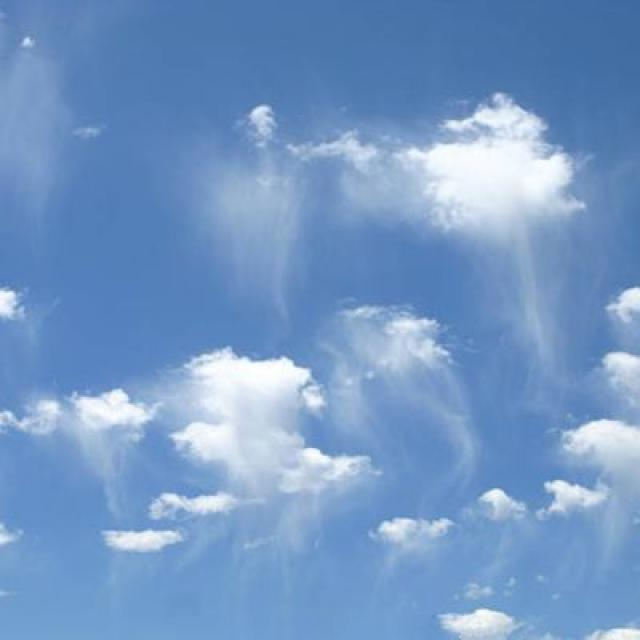Cs: (34, 91, 640, 583)
